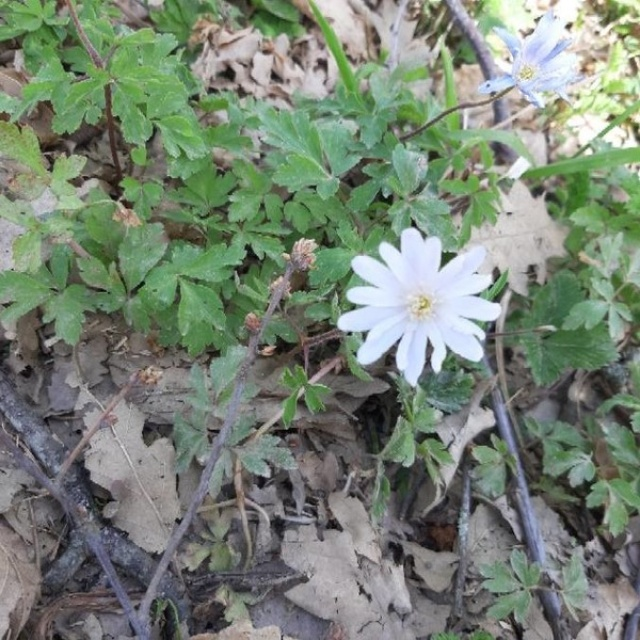obstacle: (49, 59, 492, 400)
